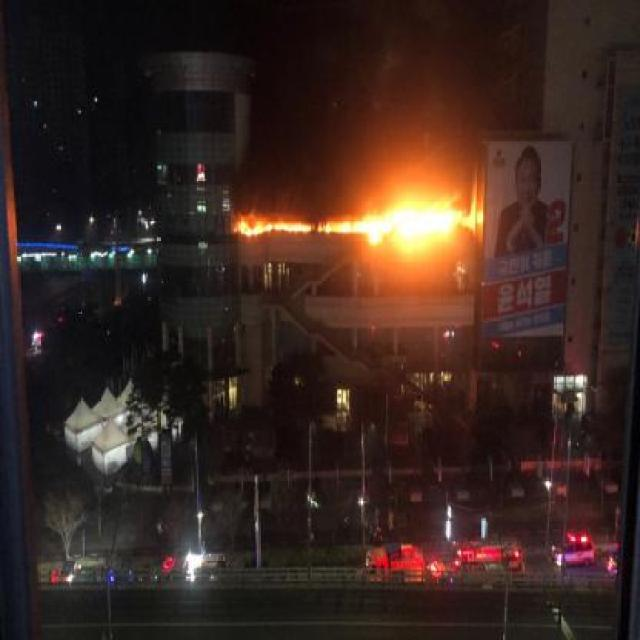Fire: (386, 188, 474, 234), (320, 214, 388, 232), (236, 217, 313, 232), (370, 229, 384, 243)
